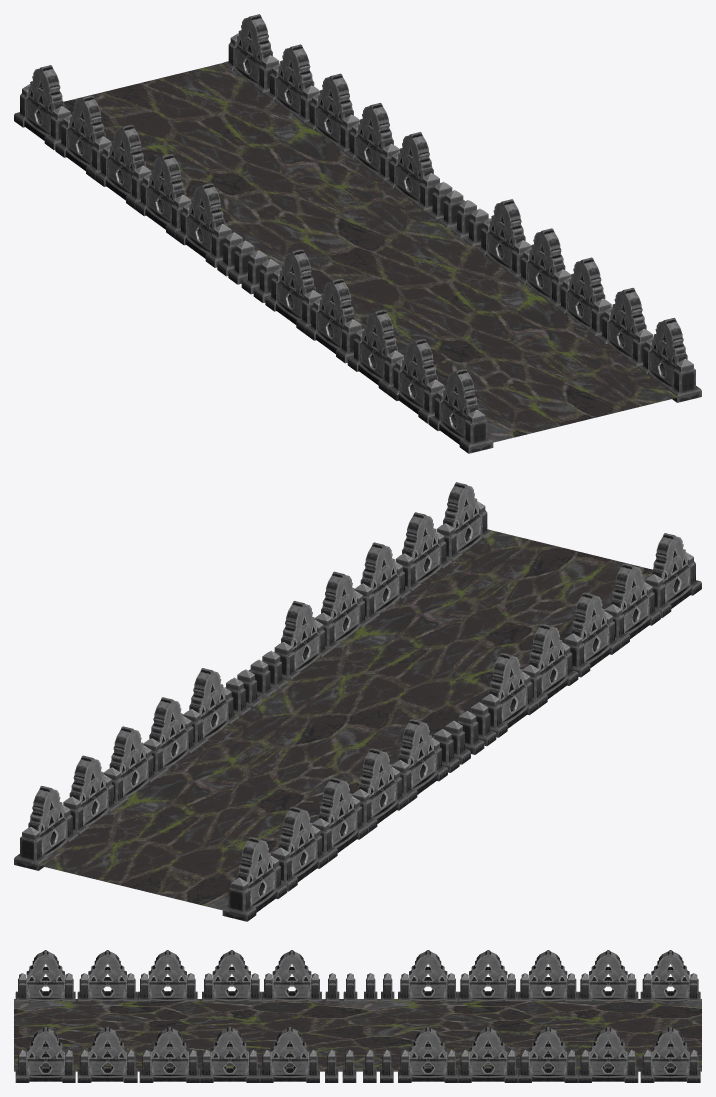
The model's file is Ground0.fbx.
The picture shows the model from 3 angles, top to bottom: view 1: azimuth 30°, elevation 25°; view 2: azimuth 150°, elevation 25°; view 3: azimuth 270°, elevation 25°; orthographic projection. The views are drawn at different scales.
Visible parts, largest first — view 1: Plane.002; view 2: Plane.002; view 3: Plane.002.
Part boxes in pixels (bbox=[...]): Plane.002: bbox=[14, 14, 701, 453]; Plane.002: bbox=[14, 482, 701, 921]; Plane.002: bbox=[14, 950, 701, 1082].
Bounding box in the file's own units: 590 × 159 × 2000.
